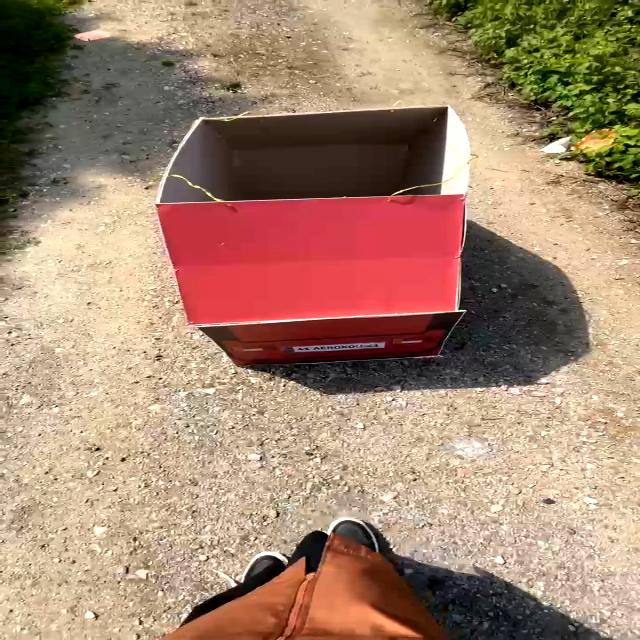red_car: (93, 50, 521, 385)
